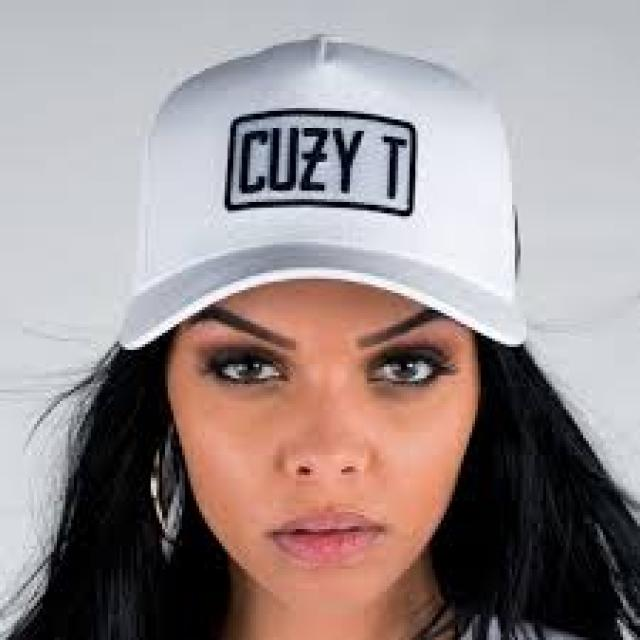3_gorra: (114, 32, 526, 352)
